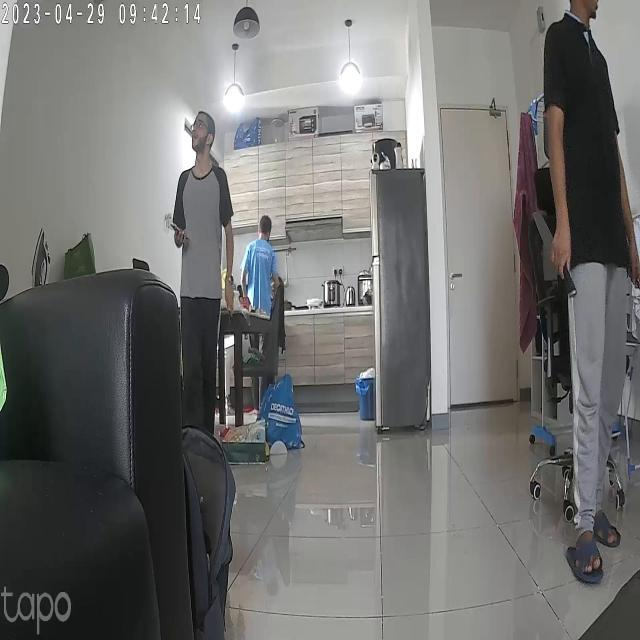Knife: (524, 202, 586, 304)
